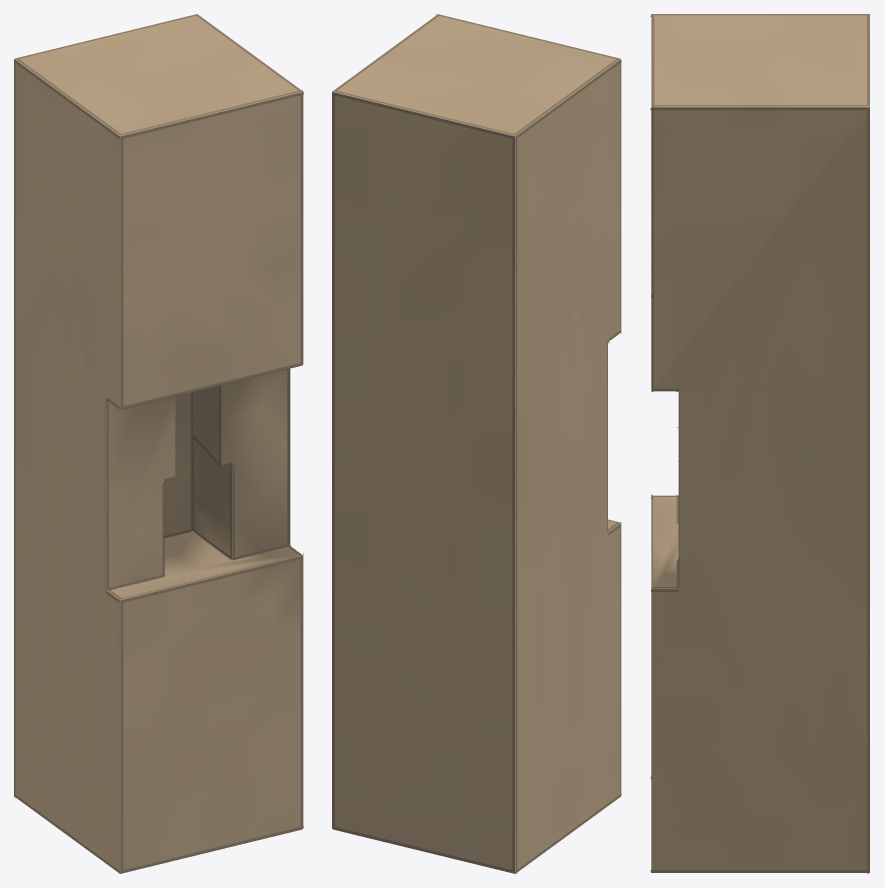
3 renders of one model, left to right at view 1: azimuth 30°, elevation 25°; view 2: azimuth 150°, elevation 25°; view 3: azimuth 270°, elevation 25°, orthographic. The views are drawn at different scales.
Parts seen in each view (by area): view 1: part-a; view 2: part-a; view 3: part-a.
Boxes of the visible parts, x1,y1,x2,y2 form: part-a: [14, 14, 303, 873]; part-a: [332, 14, 621, 873]; part-a: [650, 14, 869, 873].
Bounding box in the file's own units: 0.1075 × 0.4066 × 0.1059.
